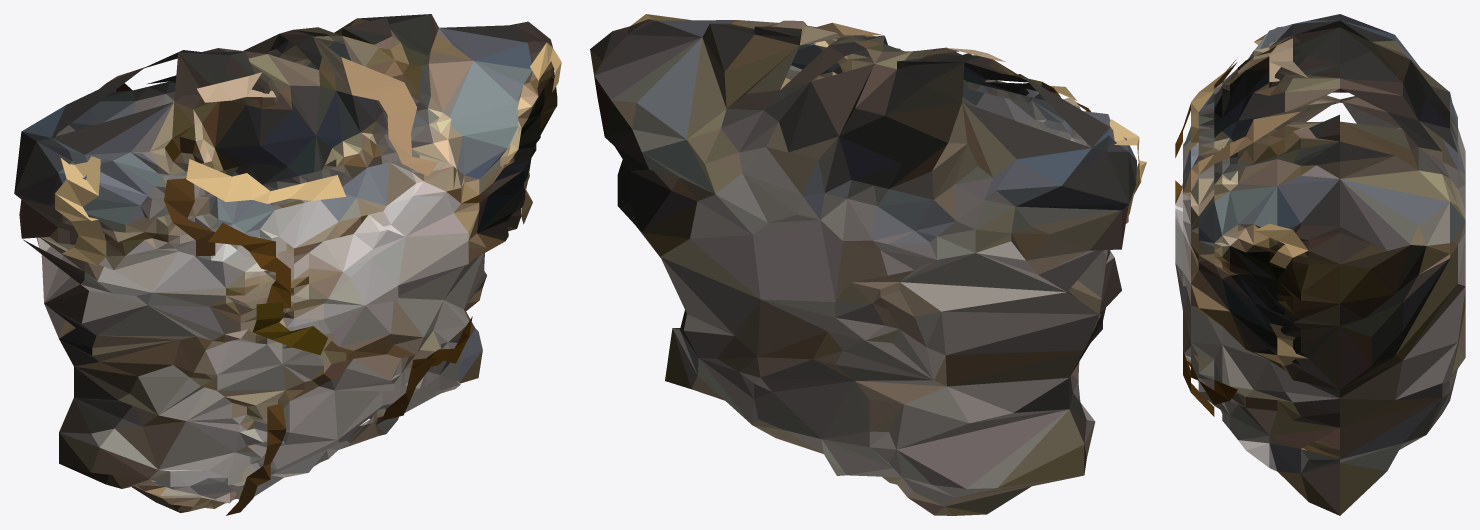
File: B05_5_paladin_platebody.obj
The picture shows the model from 3 angles, left to right: view 1: azimuth 30°, elevation 25°; view 2: azimuth 150°, elevation 25°; view 3: azimuth 270°, elevation 25°; orthographic projection. The views are drawn at different scales.
Visible parts, largest first — view 1: B05_5_paladin_platebody; view 2: B05_5_paladin_platebody; view 3: B05_5_paladin_platebody.
Boxes of the visible parts, box(x1,y1,x2,y2) form: B05_5_paladin_platebody: box(14, 14, 561, 515); B05_5_paladin_platebody: box(590, 14, 1146, 515); B05_5_paladin_platebody: box(1175, 14, 1465, 515).
Size of the model in its own units: 72 by 58 by 37.
